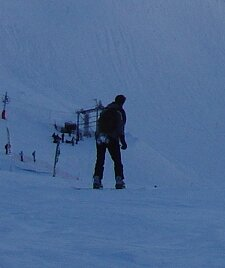person: (91, 92, 130, 192)
